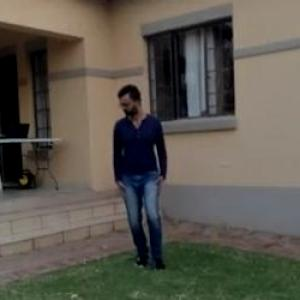follow: (110, 78, 167, 274)
